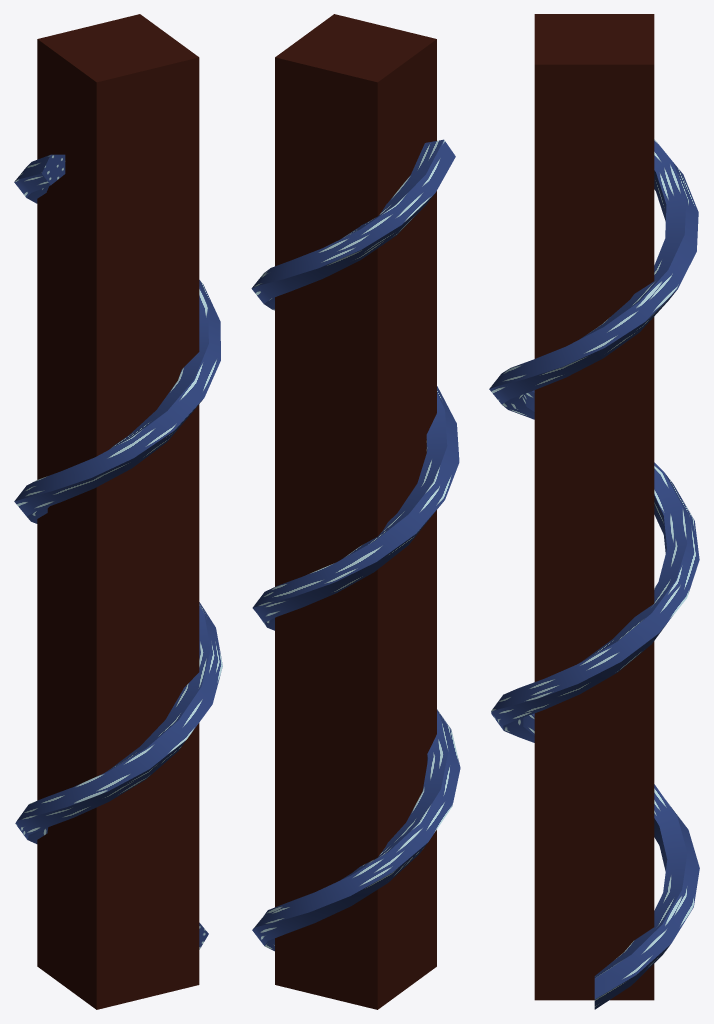
The model's file is Interruptor.obj.
3 renders of one model, left to right at view 1: azimuth 30°, elevation 25°; view 2: azimuth 150°, elevation 25°; view 3: azimuth 270°, elevation 25°, orthographic.
Visible parts, largest first — view 1: pCube1, pHelix1; view 2: pCube1, pHelix1; view 3: pCube1, pHelix1.
Boxes of the visible parts, x1=… form: pCube1: x1=37, y1=14, x2=199, y2=1009; pHelix1: x1=14, y1=154, x2=222, y2=949; pCube1: x1=275, y1=14, x2=436, y2=1009; pHelix1: x1=251, y1=139, x2=460, y2=951; pCube1: x1=534, y1=14, x2=654, y2=1000; pHelix1: x1=489, y1=139, x2=699, y2=1009.
Size of the model in its own units: 1.02 by 4.98 by 1.02.
2 materials, 2 textured.
